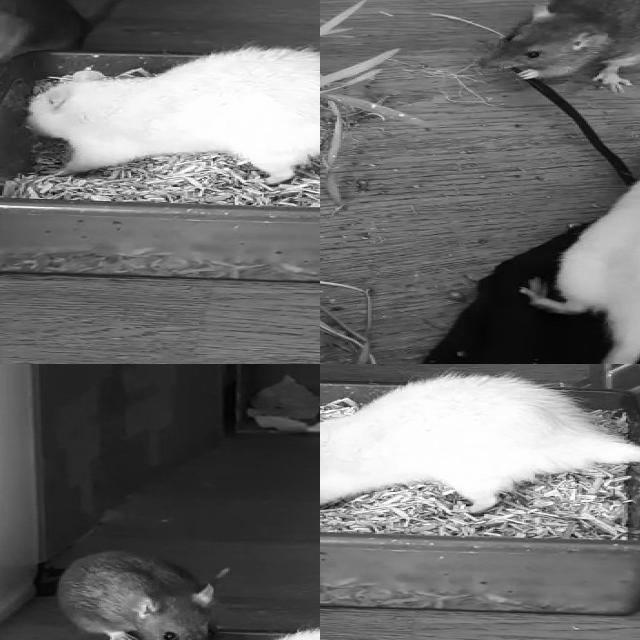rat: (320, 375, 614, 514), (23, 48, 320, 178), (517, 126, 640, 339), (48, 546, 233, 640), (474, 0, 640, 89), (0, 0, 96, 113)
